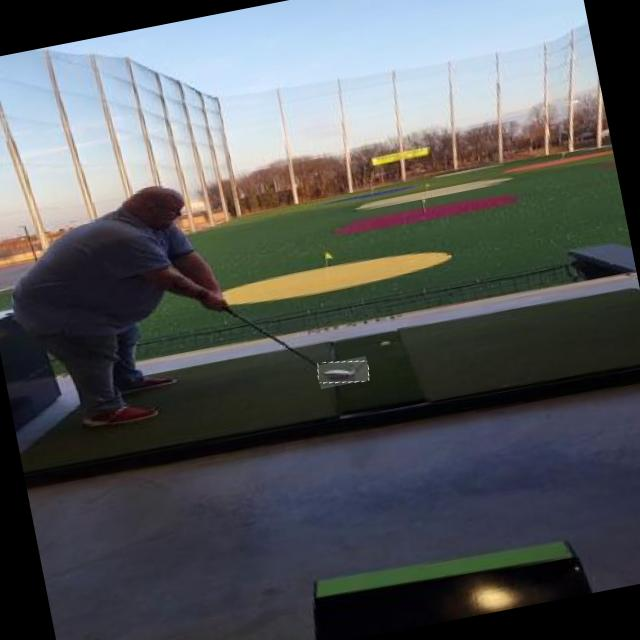club head: (316, 356, 371, 389)
